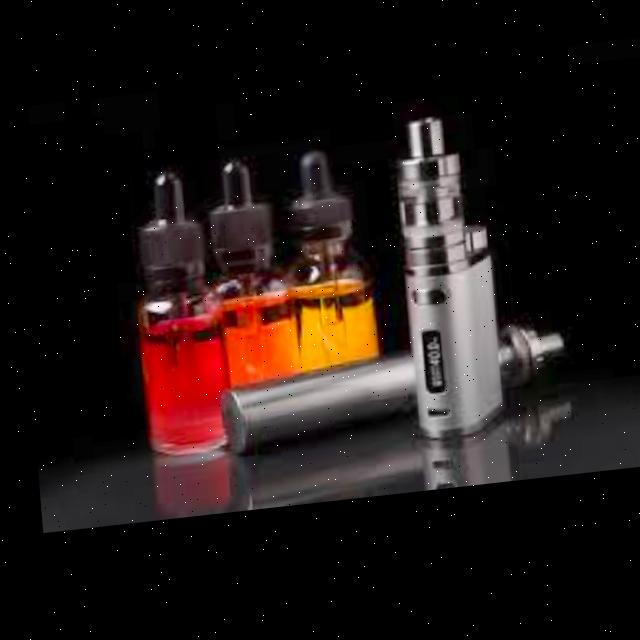vape: (212, 332, 562, 455), (390, 123, 497, 449)
